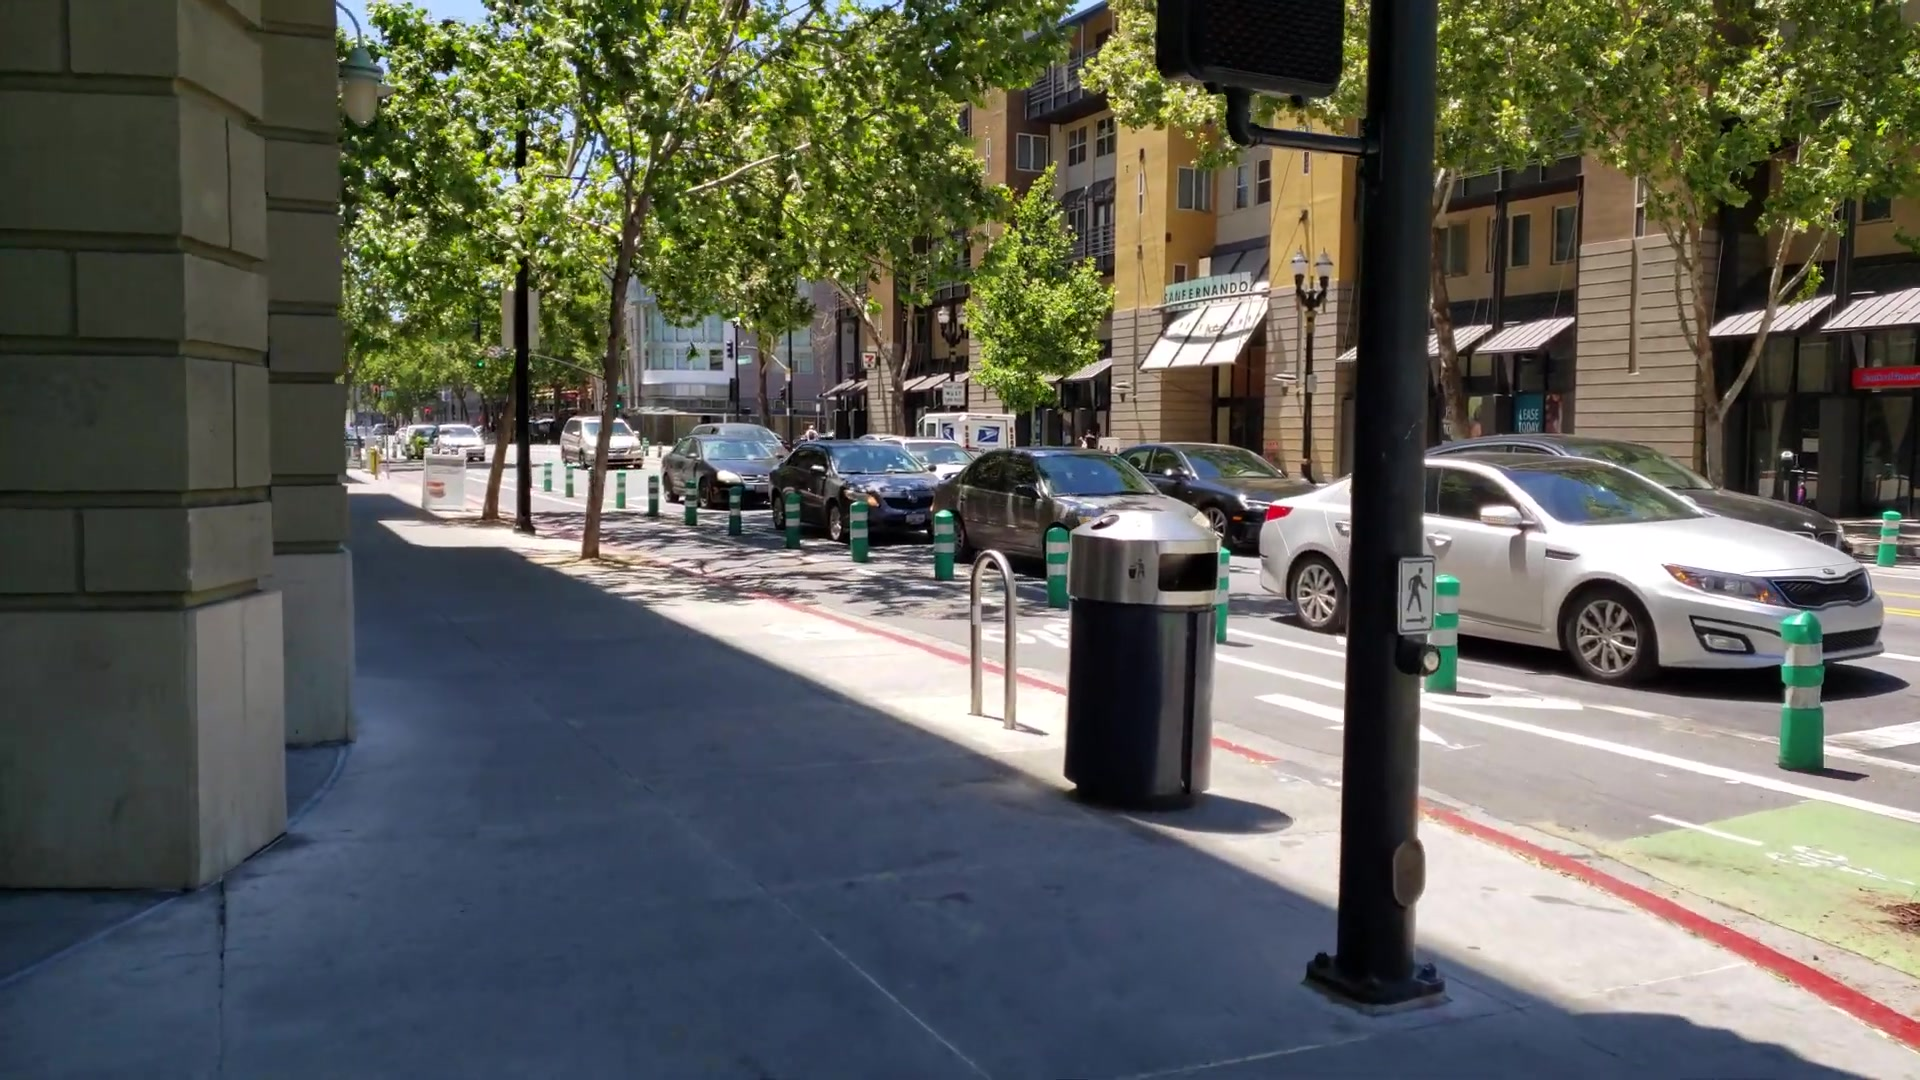vehicle: (1258, 454, 1884, 676), (773, 442, 934, 537), (659, 436, 771, 506)
